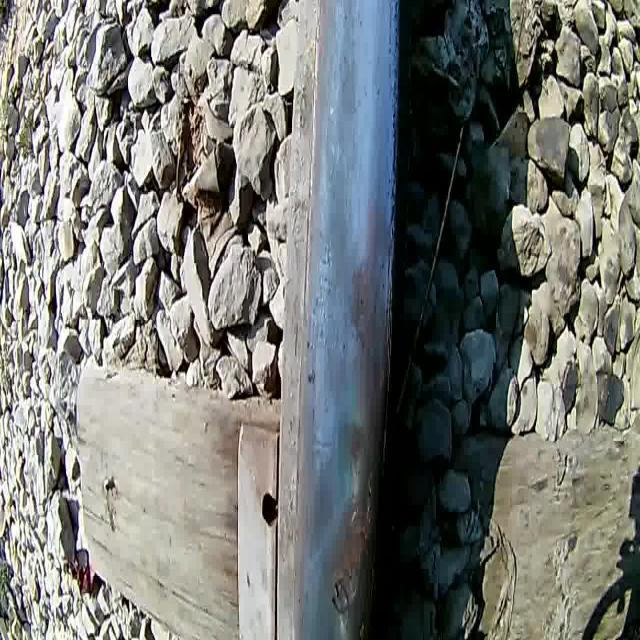Squats: (321, 552, 364, 634)
